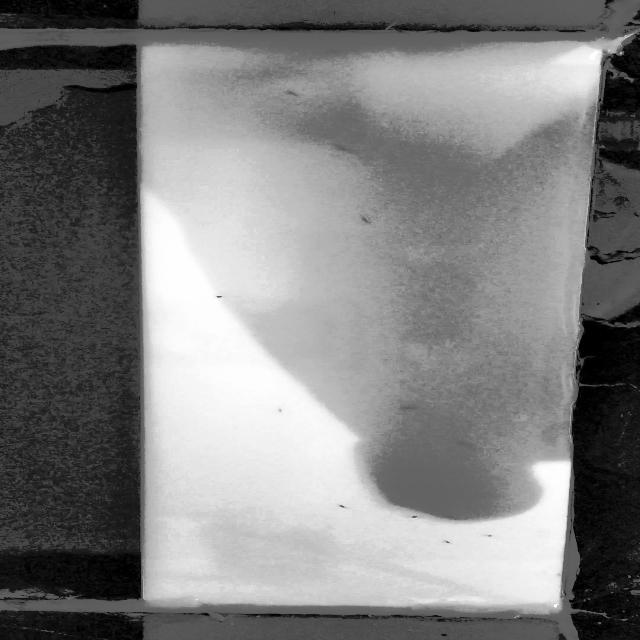shrimp: (203, 292, 239, 303), (322, 45, 366, 54), (283, 88, 311, 100), (479, 530, 504, 541), (333, 142, 354, 155), (274, 405, 292, 417), (438, 537, 458, 545), (444, 512, 460, 522), (402, 404, 424, 411), (353, 216, 374, 223), (337, 504, 361, 510), (457, 441, 473, 449), (409, 513, 424, 521)
